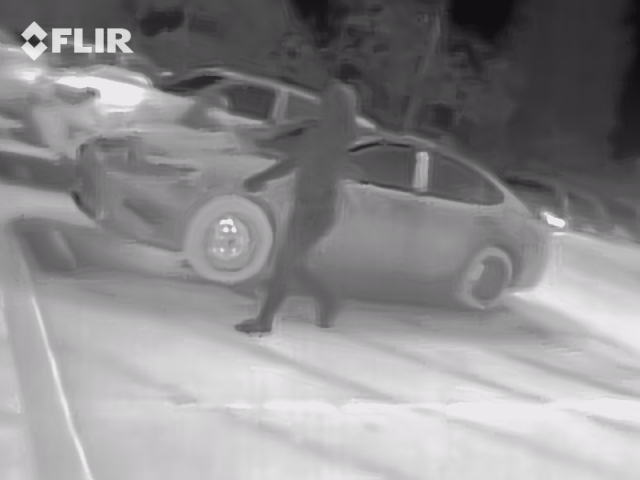head: (317, 83, 356, 126)
